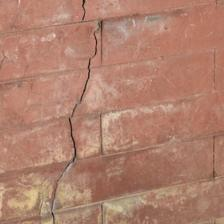Crack: (18, 0, 65, 110), (0, 95, 62, 116), (41, 0, 75, 30)
